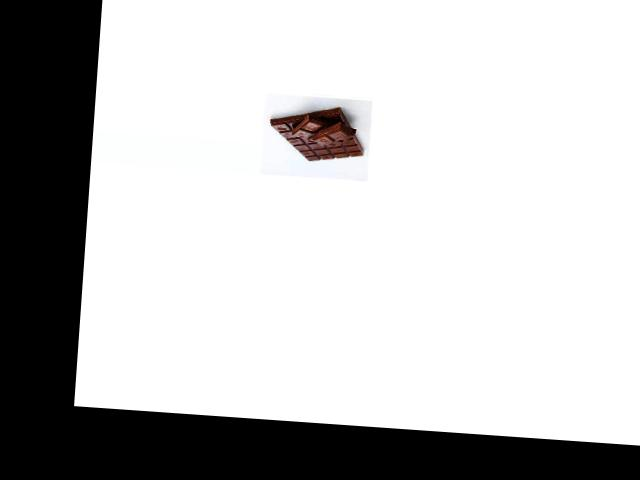chocolate: (266, 98, 367, 169)
